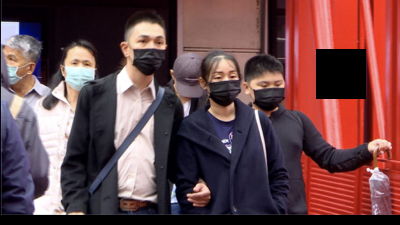with_mask: (128, 32, 165, 76), (207, 68, 240, 107), (250, 77, 284, 111), (64, 57, 96, 91), (1, 50, 21, 85)
